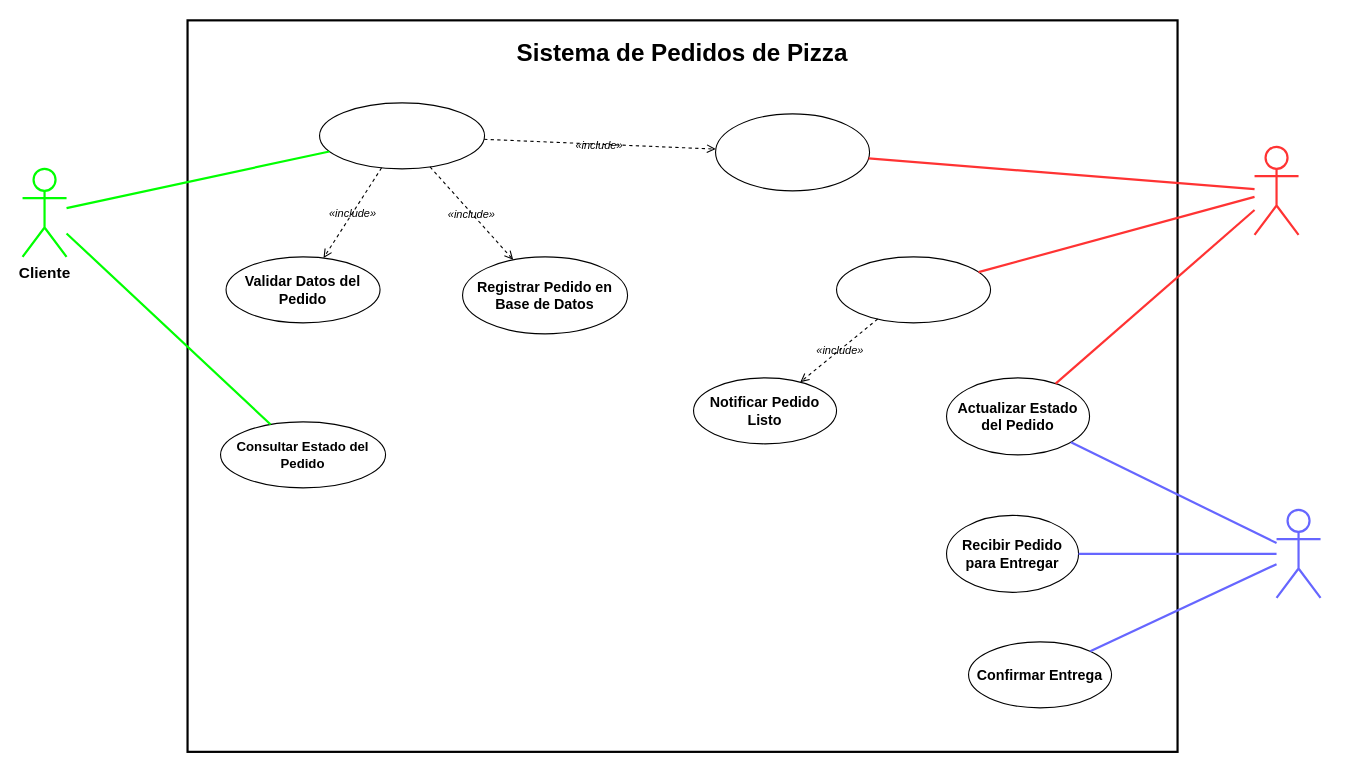
Image size: 1346x771. Some labels were removed from this diagram. The centre of each missing label's shape, as x and y in pixels:
"Cocina" goes at [1276,190].
"Notificar Nuevo Pedido a Cocina" goes at [792,152].
"Preparar Pedido" goes at [913,289].
"Realizar Pedido" goes at [401,135].
"Reparto" goes at [1298,553].
